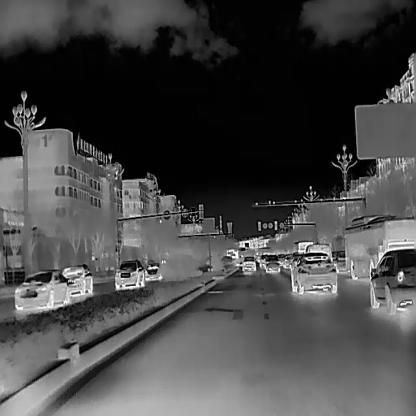bus: (344, 213, 415, 279), (292, 240, 312, 252)
car: (368, 248, 415, 315), (12, 269, 70, 310), (289, 252, 337, 293), (60, 263, 92, 296), (113, 258, 144, 288), (304, 243, 330, 267), (143, 262, 161, 278), (240, 255, 256, 272), (264, 254, 279, 272), (290, 251, 300, 265), (283, 253, 292, 268), (258, 252, 266, 266), (276, 252, 284, 266)
